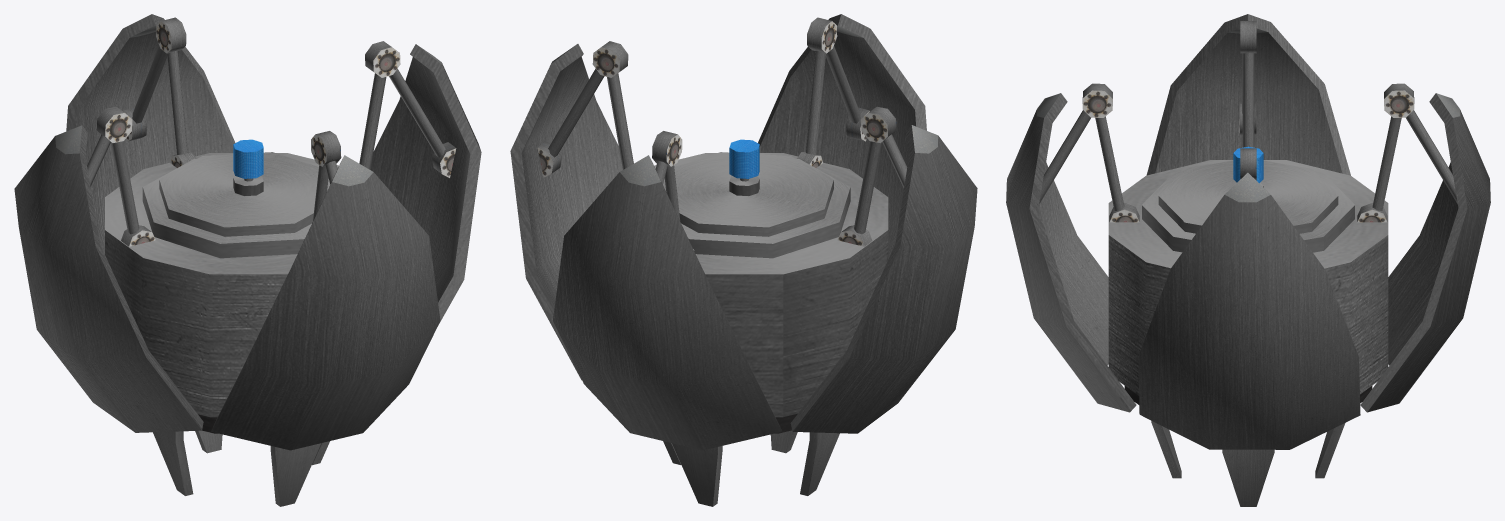
The model's file is beacon.fbx.
3 views of the same model, side by side, from view 1: azimuth 30°, elevation 25°; view 2: azimuth 150°, elevation 25°; view 3: azimuth 270°, elevation 25° (orthographic). The views are drawn at different scales.
Visible parts, largest first — view 1: polySurface8, polySurface7, polySurface17, polySurface9, polySurface5, polySurface10, polySurface12, pCube3, pCube2, pCylinder27, pCylinder22, pCylinder18 (+10 smaller); view 2: polySurface5, polySurface7, polySurface17, polySurface9, polySurface8, polySurface10, polySurface12, pCube4, pCube2, pCylinder27, pCylinder22, pCylinder32 (+9 smaller); view 3: polySurface9, polySurface17, polySurface7, polySurface8, polySurface5, polySurface10, polySurface12, pCube1, pCylinder22, pCylinder32, pCylinder18, pCylinder26 (+7 smaller).
Part boxes in pixels (left/top/right/bottom): polySurface8: left=211, top=155, right=440, bottom=450; polySurface7: left=14, top=125, right=203, bottom=432; polySurface17: left=105, top=152, right=338, bottom=417; polySurface9: left=370, top=44, right=481, bottom=325; polySurface5: left=66, top=14, right=235, bottom=253; polySurface10: left=159, top=152, right=330, bottom=236; polySurface12: left=142, top=159, right=311, bottom=258; pCube3: left=270, top=443, right=320, bottom=506; pCube2: left=153, top=431, right=193, bottom=495; pCylinder27: left=359, top=73, right=386, bottom=169; pCylinder22: left=111, top=141, right=139, bottom=234; pCylinder18: left=167, top=50, right=187, bottom=154; polySurface5: left=553, top=155, right=781, bottom=450; polySurface7: left=790, top=125, right=977, bottom=433; polySurface17: left=654, top=152, right=888, bottom=417; polySurface9: left=510, top=44, right=622, bottom=380; polySurface8: left=758, top=14, right=926, bottom=258; polySurface10: left=663, top=152, right=833, bottom=236; polySurface12: left=681, top=159, right=850, bottom=258; pCube4: left=672, top=443, right=722, bottom=506; pCube2: left=800, top=432, right=839, bottom=495; pCylinder27: left=607, top=73, right=633, bottom=169; pCylinder22: left=854, top=141, right=882, bottom=234; pCylinder32: left=805, top=50, right=825, bottom=154; polySurface9: left=1138, top=172, right=1360, bottom=449; polySurface17: left=1108, top=160, right=1388, bottom=395; polySurface7: left=1146, top=14, right=1350, bottom=175; polySurface8: left=1006, top=93, right=1136, bottom=412; polySurface5: left=1360, top=93, right=1490, bottom=412; polySurface10: left=1158, top=160, right=1338, bottom=233; polySurface12: left=1142, top=171, right=1354, bottom=252; pCube1: left=1222, top=449, right=1274, bottom=506; pCylinder22: left=1242, top=52, right=1254, bottom=147; pCylinder32: left=1095, top=116, right=1124, bottom=210; pCylinder18: left=1372, top=116, right=1401, bottom=210; pCylinder26: left=1039, top=110, right=1090, bottom=203.
Size of the model in its own units: 13.09 by 11.56 by 13.09.
